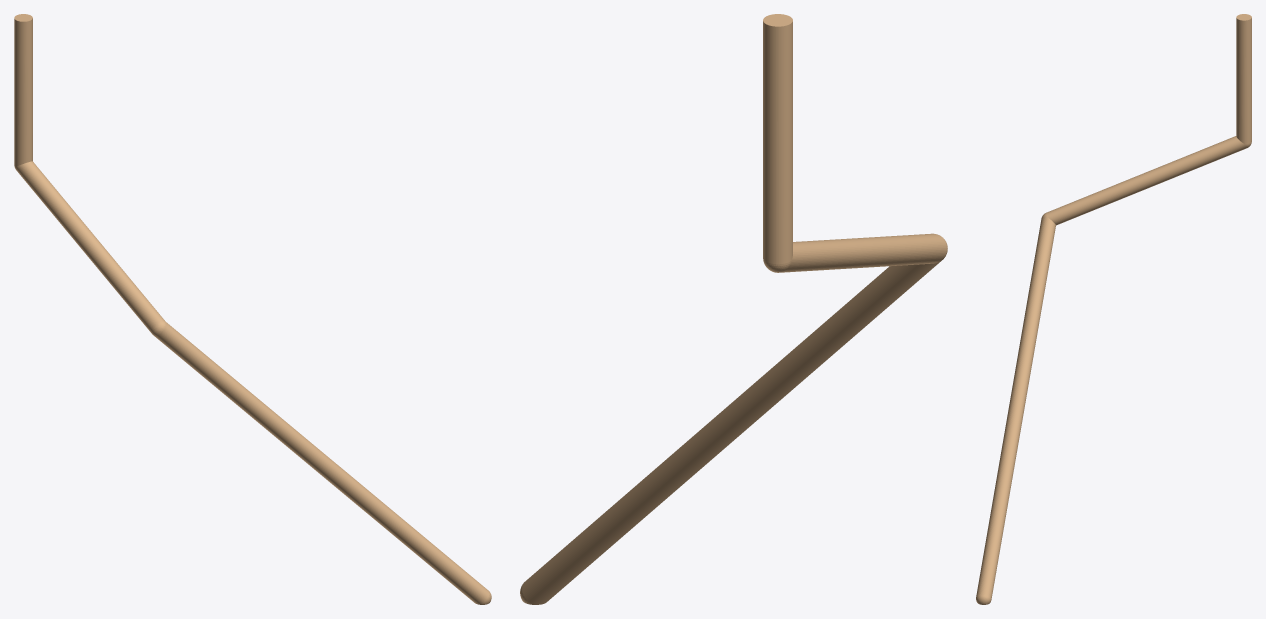
The model's file is starter-solenoid-lead-hold-s.glb.
The picture shows the model from 3 angles, left to right: view 1: azimuth 30°, elevation 25°; view 2: azimuth 150°, elevation 25°; view 3: azimuth 270°, elevation 25°; orthographic projection. The views are drawn at different scales.
Visible parts, largest first — view 1: world; view 2: world; view 3: world.
Boxes of the visible parts, x1=… form: world: x1=14, y1=14, x2=491, y2=604; world: x1=520, y1=14, x2=947, y2=604; world: x1=976, y1=14, x2=1251, y2=604.
Bounding box in the file's own units: 0.016 × 0.026 × 0.0141.
